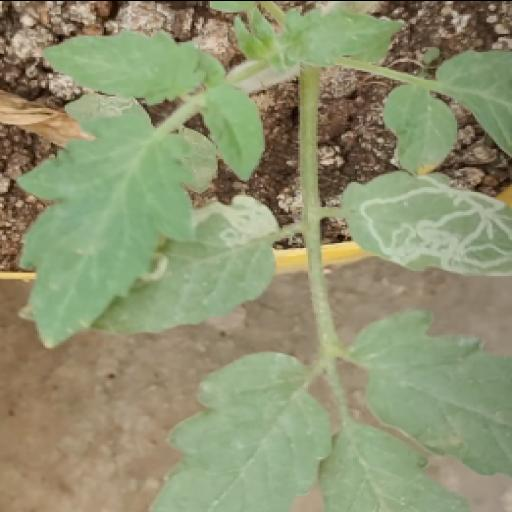Leaf Miner: (82, 190, 282, 334), (336, 171, 512, 275)
